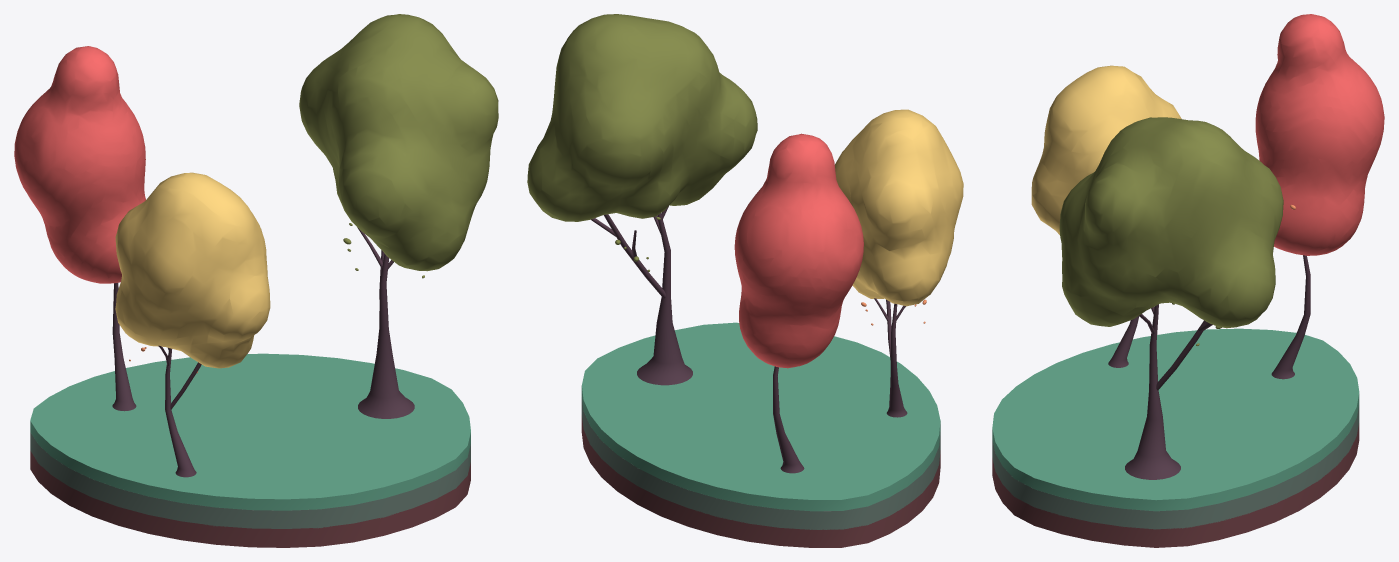
The model's file is Cartoon_Trees.fbx.
3 views of the same model, side by side, from view 1: azimuth 30°, elevation 25°; view 2: azimuth 150°, elevation 25°; view 3: azimuth 270°, elevation 25° (orthographic).
Parts seen in each view (by area): view 1: Cylinder, Crone, Spheres_2, Spheres, Cylinder_2, Cylinder_1, Wood_8, Wood_2, Wood_5; view 2: Cylinder, Crone, Spheres, Spheres_2, Cylinder_1, Cylinder_2, Wood_8, Wood_2, Wood_5, Stick_13; view 3: Cylinder, Crone, Spheres, Spheres_2, Cylinder_2, Cylinder_1, Wood_8, Wood_2, Wood_5, Stick_13.
Boxes of the visible parts, x1=… form: Cylinder: x1=30, y1=353, x2=470, y2=510; Crone: x1=299, y1=14, x2=498, y2=271; Spheres_2: x1=115, y1=172, x2=270, y2=368; Spheres: x1=14, y1=46, x2=145, y2=283; Cylinder_2: x1=30, y1=451, x2=470, y2=547; Cylinder_1: x1=30, y1=432, x2=470, y2=528; Wood_8: x1=358, y1=253, x2=414, y2=418; Wood_2: x1=112, y1=283, x2=136, y2=411; Wood_5: x1=165, y1=348, x2=196, y2=477; Cylinder: x1=581, y1=322, x2=940, y2=511; Crone: x1=527, y1=14, x2=757, y2=221; Spheres: x1=734, y1=133, x2=863, y2=368; Spheres_2: x1=835, y1=109, x2=963, y2=306; Cylinder_1: x1=581, y1=396, x2=940, y2=529; Cylinder_2: x1=581, y1=415, x2=940, y2=547; Wood_8: x1=637, y1=213, x2=692, y2=385; Wood_2: x1=773, y1=366, x2=804, y2=473; Wood_5: x1=886, y1=304, x2=907, y2=417; Stick_13: x1=603, y1=214, x2=665, y2=298; Cylinder: x1=992, y1=328, x2=1359, y2=511; Crone: x1=1059, y1=117, x2=1283, y2=328; Spheres: x1=1255, y1=14, x2=1384, y2=255; Spheres_2: x1=1031, y1=65, x2=1181, y2=234; Cylinder_2: x1=992, y1=423, x2=1359, y2=547; Cylinder_1: x1=992, y1=405, x2=1359, y2=529; Wood_8: x1=1125, y1=304, x2=1180, y2=479; Wood_2: x1=1271, y1=255, x2=1310, y2=379; Wood_5: x1=1108, y1=316, x2=1139, y2=367; Stick_13: x1=1156, y1=320, x2=1208, y2=390.
Bounding box in the file's own units: 13039 × 13397 × 11711.
